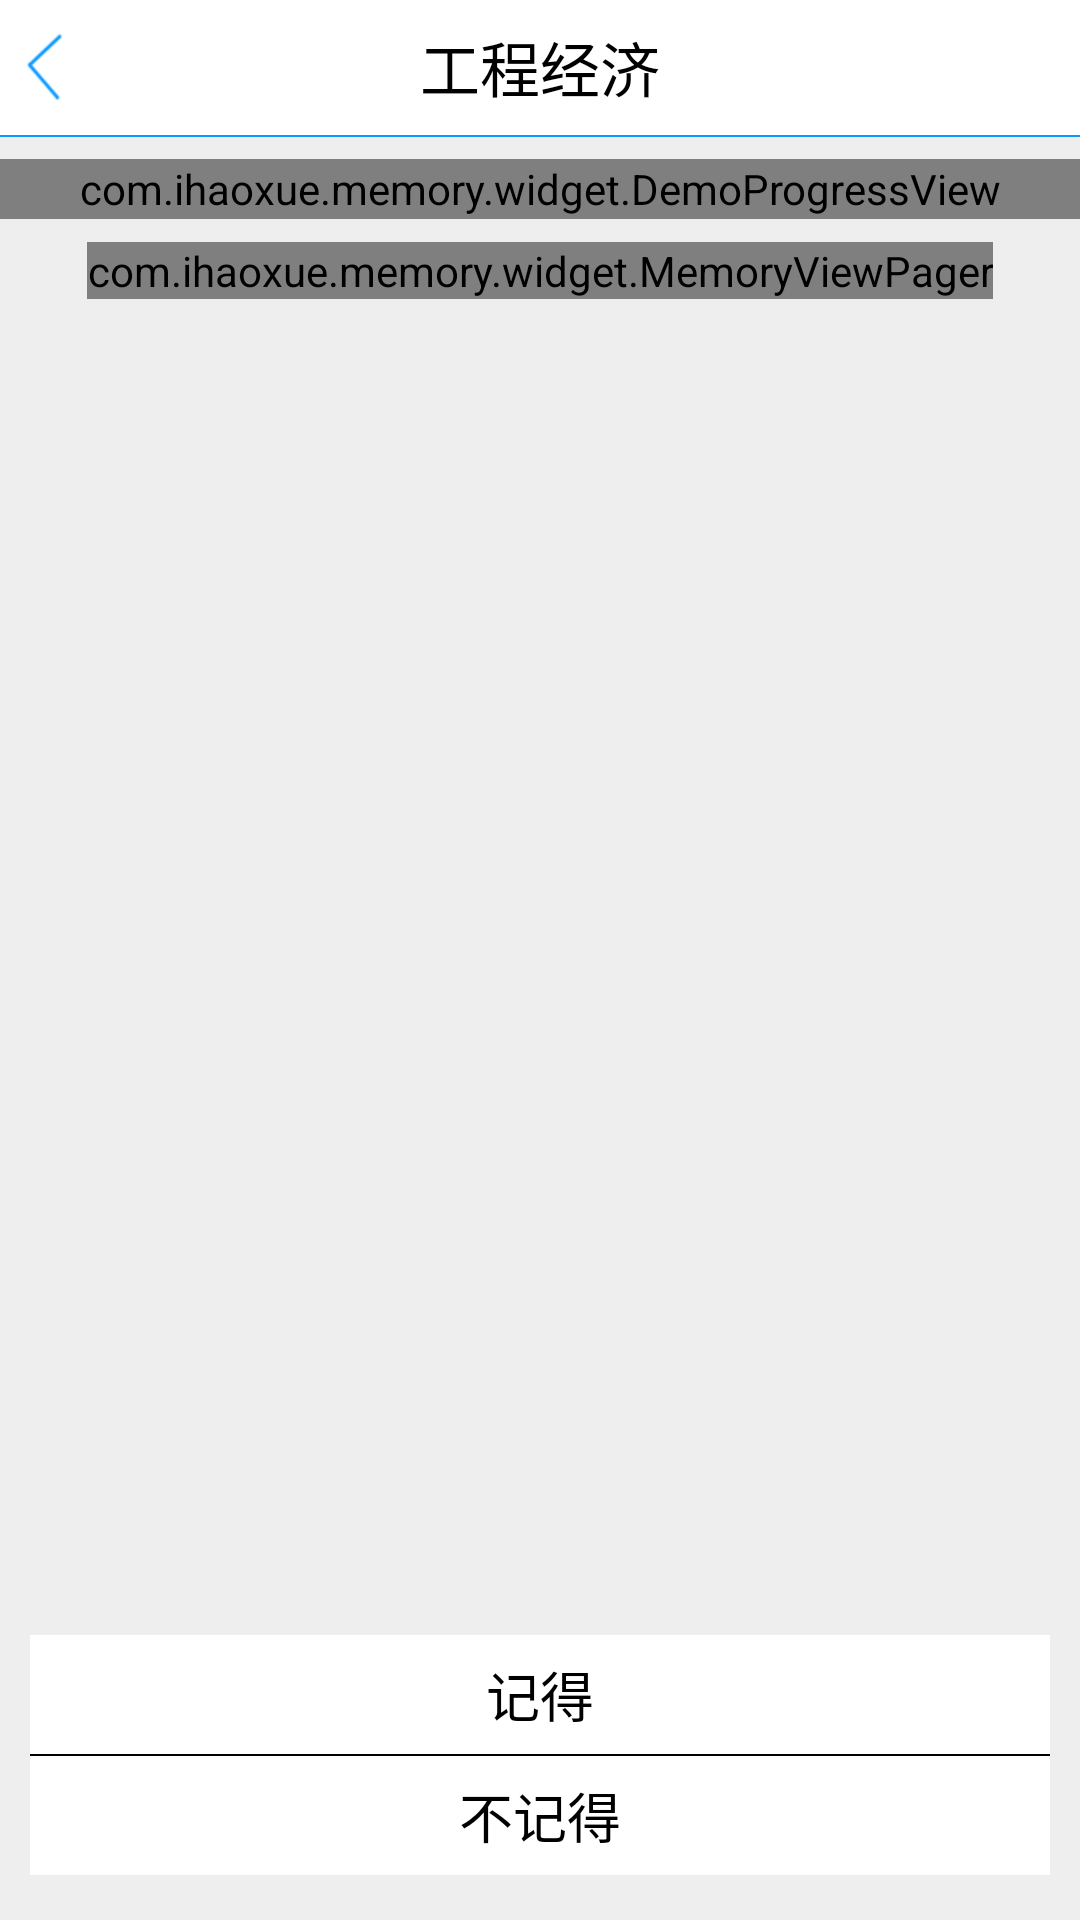

Icons on this 1080x1920 Android screen, each with the point to tap as (x,y):
back: (44,67)
